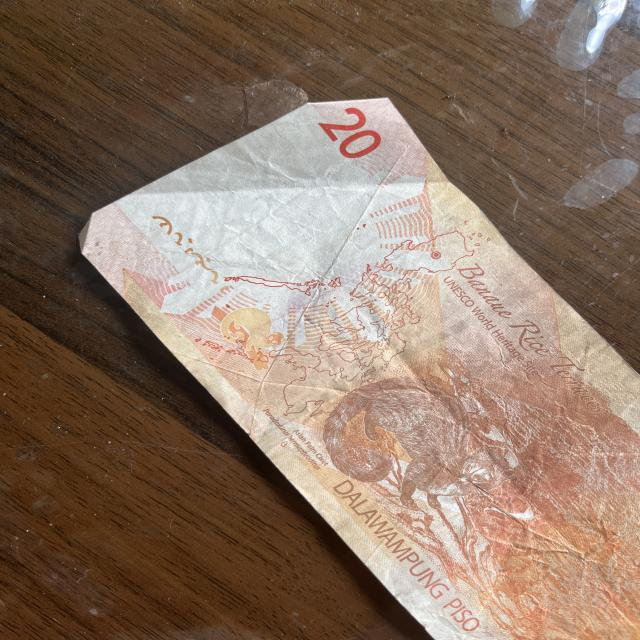20_civet: (316, 376, 510, 520)
20_civet_watermark: (215, 302, 290, 372)
